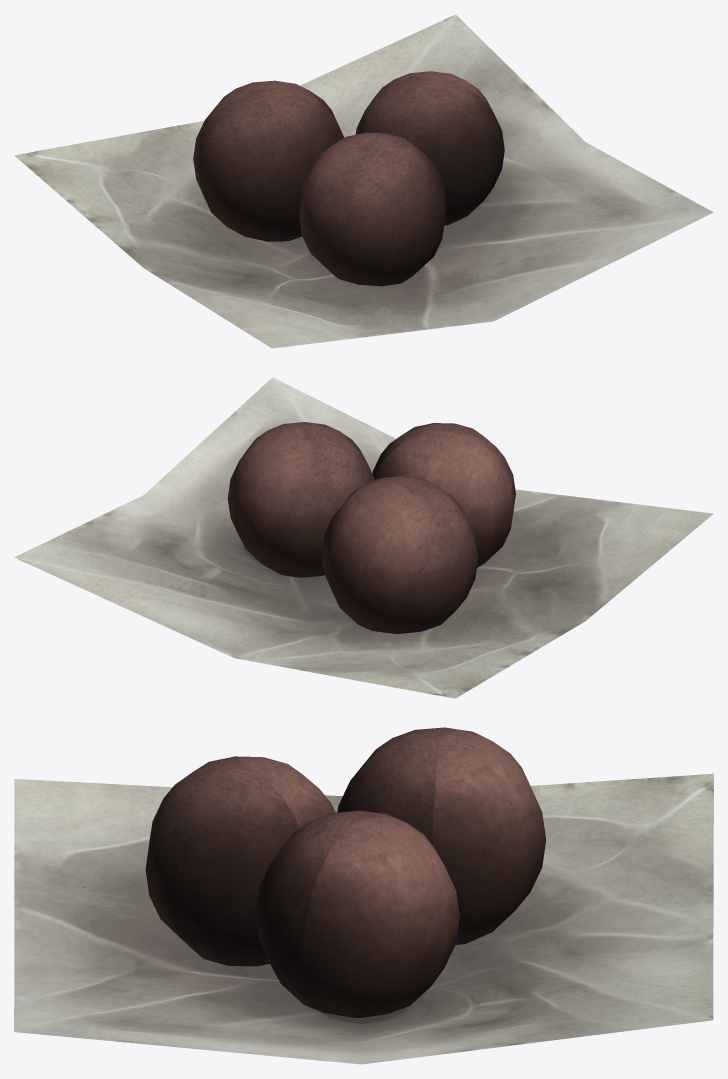
File: dihuangwan.FBX
The picture shows the model from 3 angles, top to bottom: view 1: azimuth 30°, elevation 25°; view 2: azimuth 150°, elevation 25°; view 3: azimuth 270°, elevation 25°; orthographic projection. The views are drawn at different scales.
Visible parts, largest first — view 1: dihuangwan; view 2: dihuangwan; view 3: dihuangwan.
Boxes of the visible parts, <box> form: dihuangwan: <box>14,14,713,348</box>; dihuangwan: <box>14,377,713,698</box>; dihuangwan: <box>14,727,713,1064</box>.
Size of the model in its own units: 20.12 by 6.52 by 20.39.
Materials: 1 (1 with a texture image).
